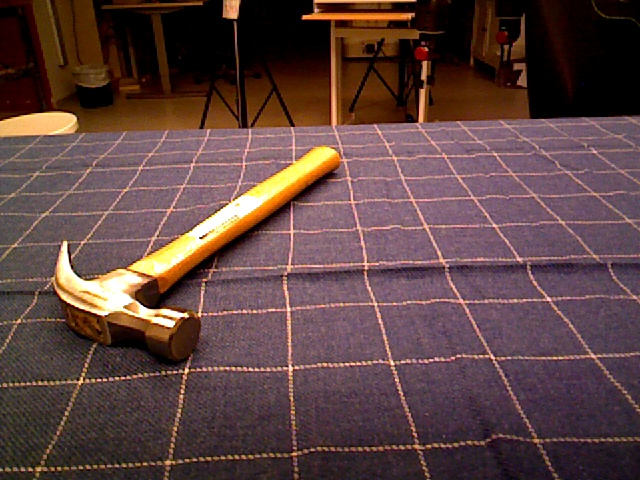hammer1: (53, 143, 341, 365)
